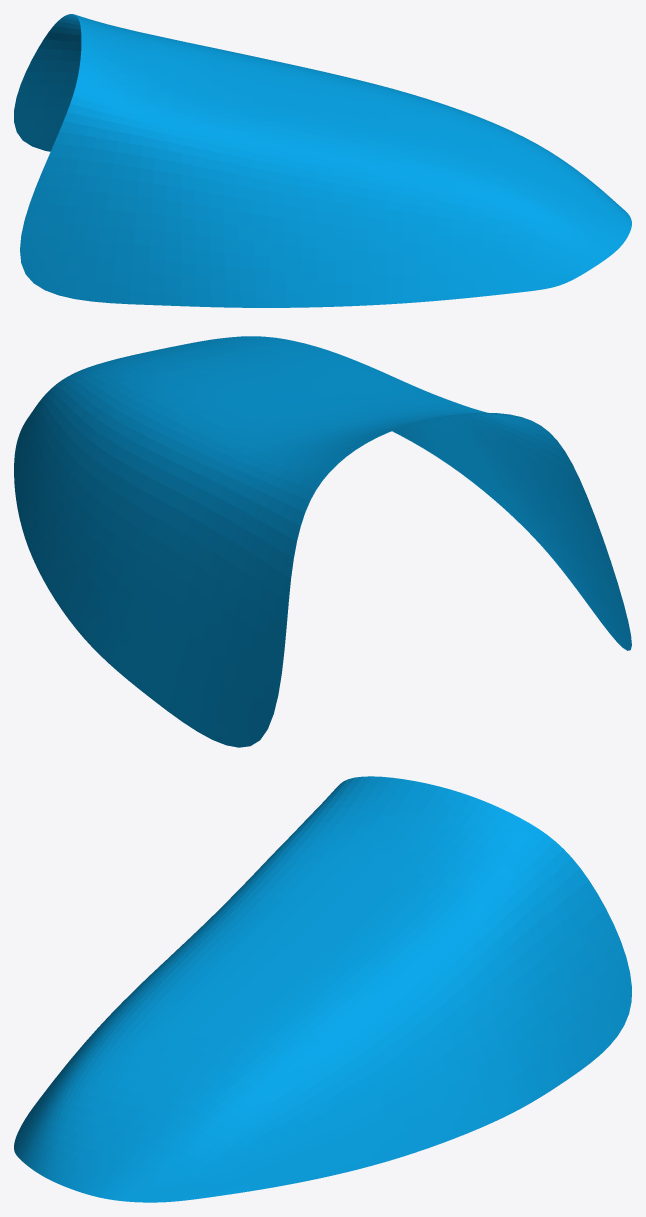
Rendered from frontBLUE.obj.
3 renders of one model, top to bottom at view 1: azimuth 30°, elevation 25°; view 2: azimuth 150°, elevation 25°; view 3: azimuth 270°, elevation 25°, orthographic. The views are drawn at different scales.
Visible parts, largest first — view 1: Plane; view 2: Plane; view 3: Plane.
Part boxes in pixels (x1,y1,x2,y2): Plane: [14, 14, 631, 307]; Plane: [14, 336, 631, 747]; Plane: [14, 776, 631, 1202].
Size of the model in its own units: 13.97 by 5.13 by 13.03.
Materials: 1 (1 with a texture image).
